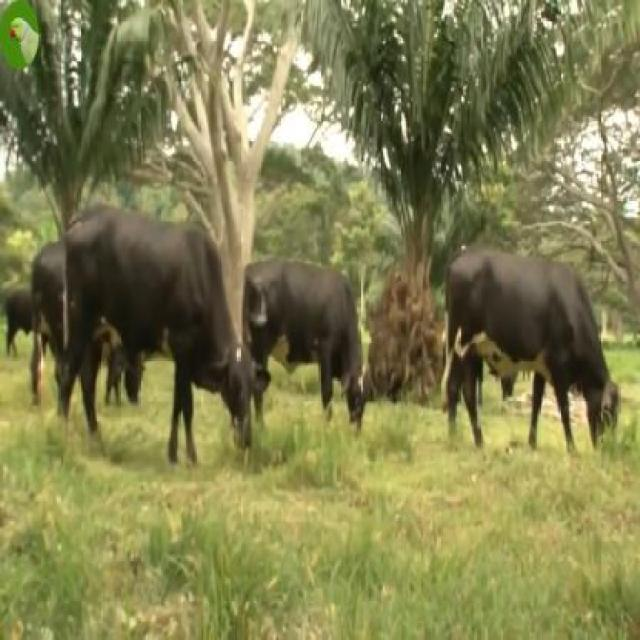Cow: (58, 208, 257, 466), (445, 244, 620, 462), (243, 259, 368, 443)
